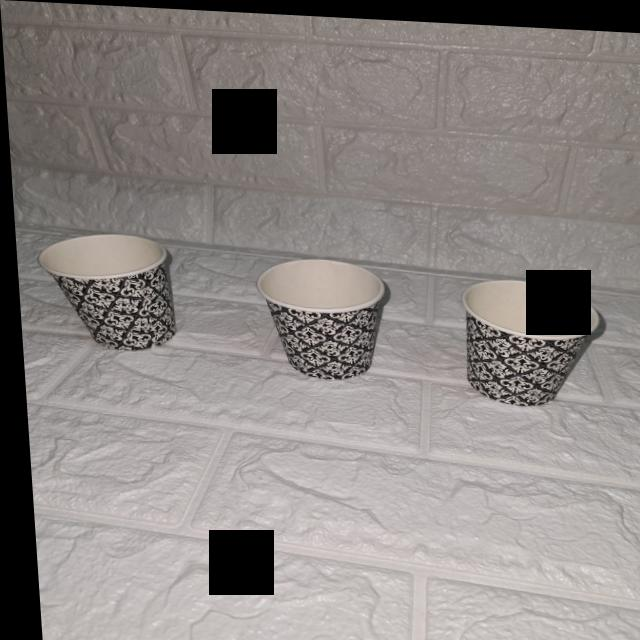cups: (433, 267, 611, 402), (254, 250, 393, 381), (57, 226, 183, 367)
